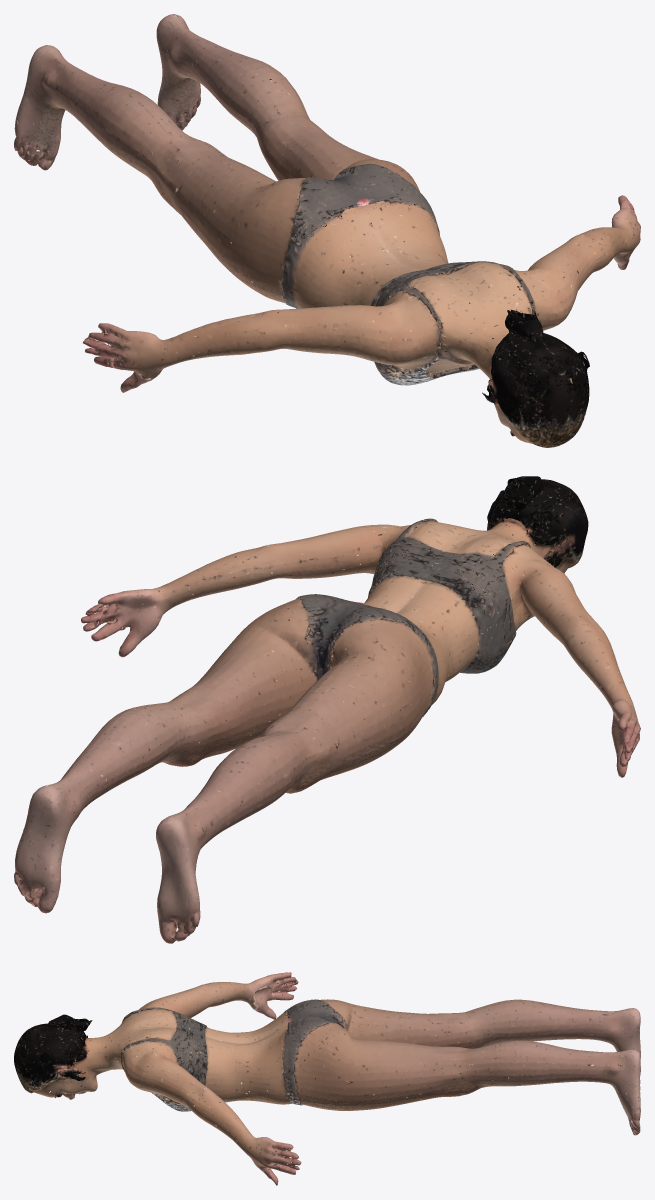
File: Paintable2.glb
The picture shows the model from 3 angles, top to bottom: view 1: azimuth 30°, elevation 25°; view 2: azimuth 150°, elevation 25°; view 3: azimuth 270°, elevation 25°; orthographic projection. The views are drawn at different scales.
Parts seen in each view (by area): view 1: geometry_0; view 2: geometry_0; view 3: geometry_0.
Part boxes in pixels (x1,y1,x2,y2): geometry_0: [14, 14, 640, 447]; geometry_0: [14, 476, 640, 943]; geometry_0: [14, 972, 640, 1185].
Bounding box in the file's own units: 0.6856 × 0.1801 × 0.9999.
Materials: 9 (9 with a texture image).
